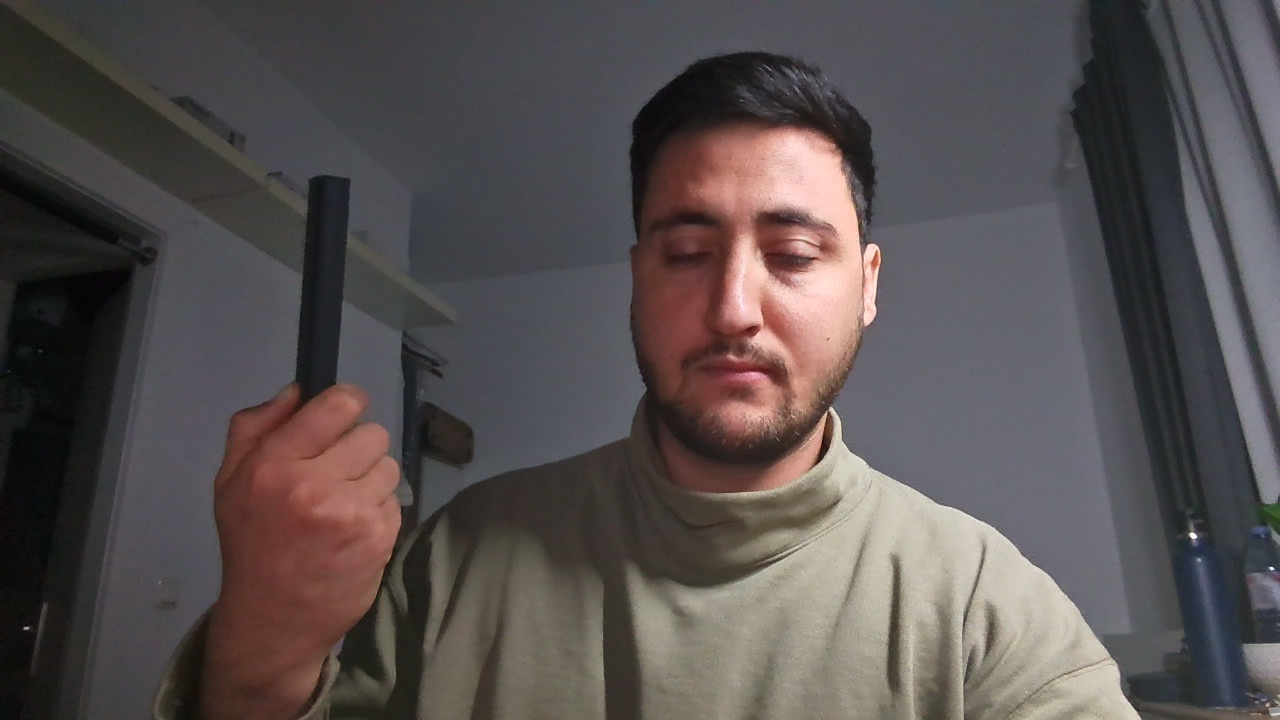Handy: (270, 159, 392, 436)
Wasserflasche: (1154, 493, 1259, 716)
me: (573, 35, 904, 498)
